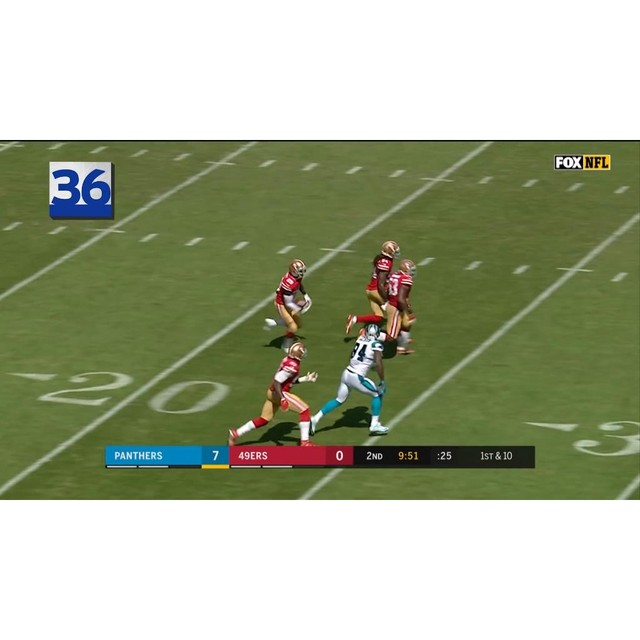american-football-player: (231, 342, 318, 445), (312, 322, 389, 438), (262, 259, 312, 344), (382, 257, 419, 357), (361, 240, 402, 323)
